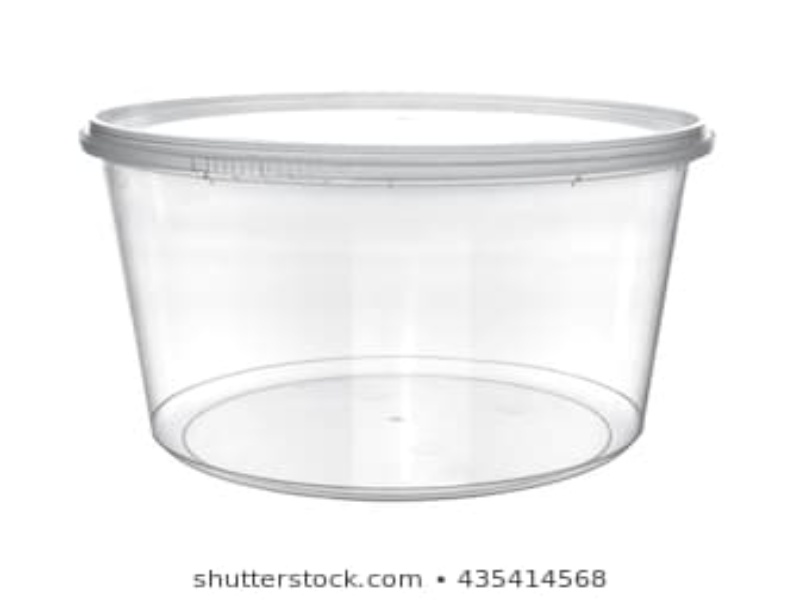plastic-container: (72, 89, 718, 503)
